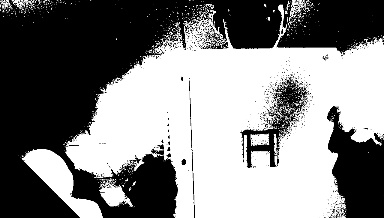H: (239, 130, 278, 167)
